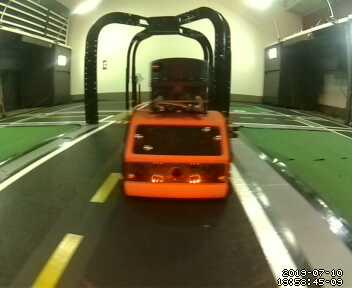pheeno: (121, 55, 234, 209)
